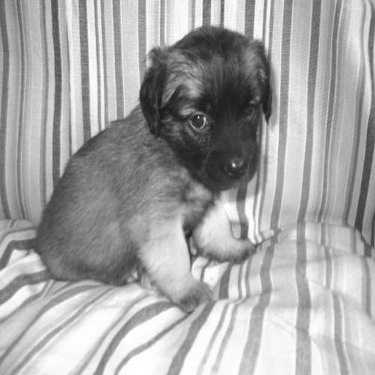dog: (17, 17, 279, 317)
